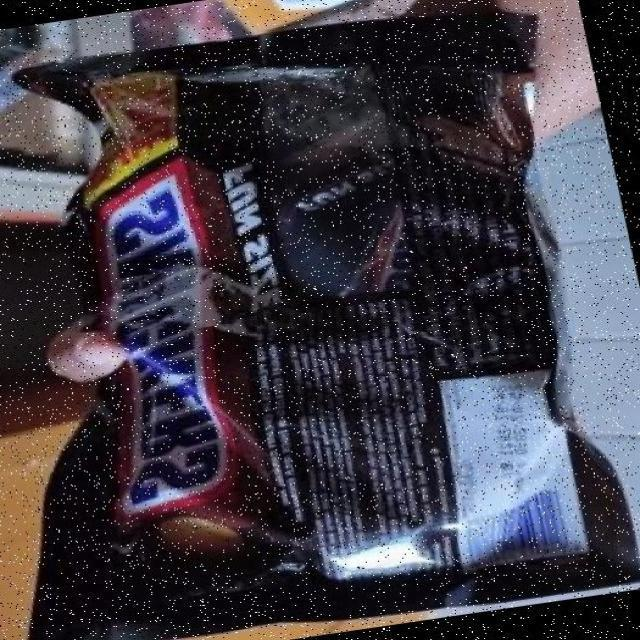Dry Waste: (35, 296, 638, 640), (28, 0, 568, 336)
